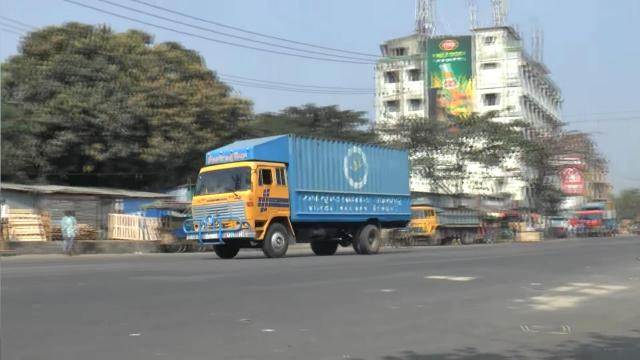truck: (191, 129, 415, 261), (413, 201, 486, 253)
